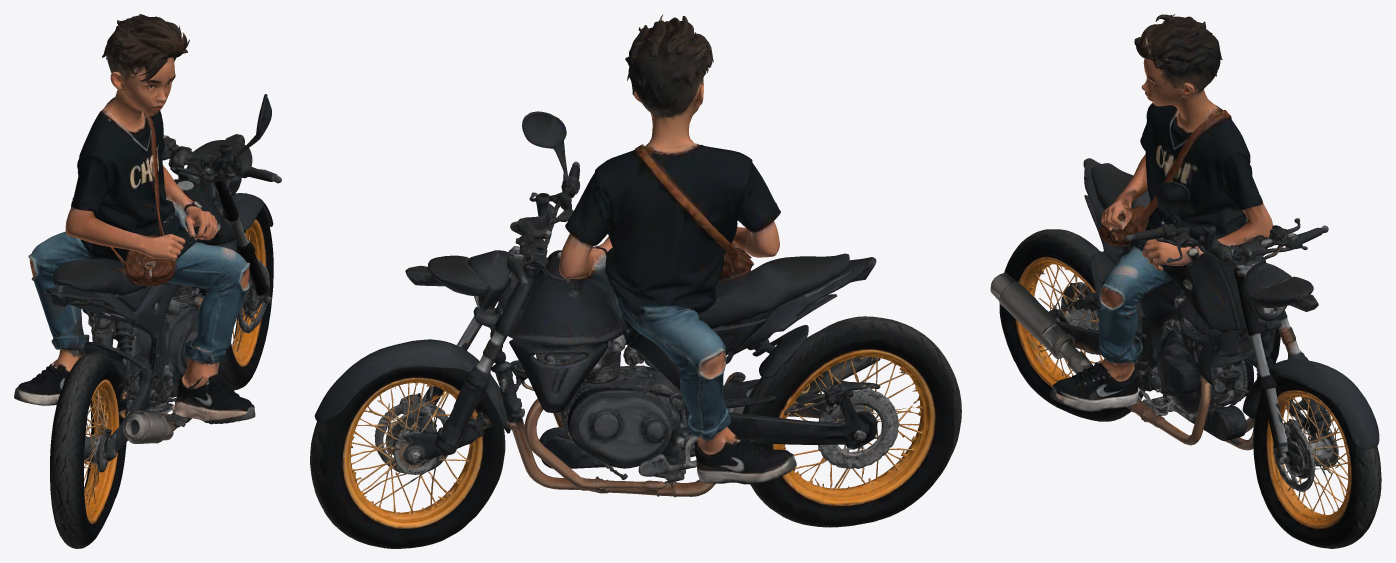
Rendered from rempit.glb.
3 renders of one model, left to right at view 1: azimuth 30°, elevation 25°; view 2: azimuth 150°, elevation 25°; view 3: azimuth 270°, elevation 25°, orthographic. The views are drawn at different scales.
Visible parts, largest first — view 1: mesh_node; view 2: mesh_node; view 3: mesh_node.
Part boxes in pixels (x1,y1,x2,y2): mesh_node: (14, 14, 281, 548); mesh_node: (310, 14, 961, 548); mesh_node: (990, 14, 1381, 548).
Bounding box in the file's own units: 1.73 × 1.9 × 1.5.
1 material, 1 textured.
